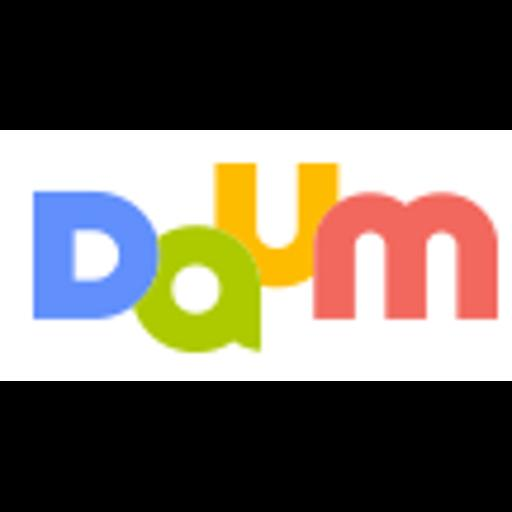Daum: (0, 130, 512, 381)
